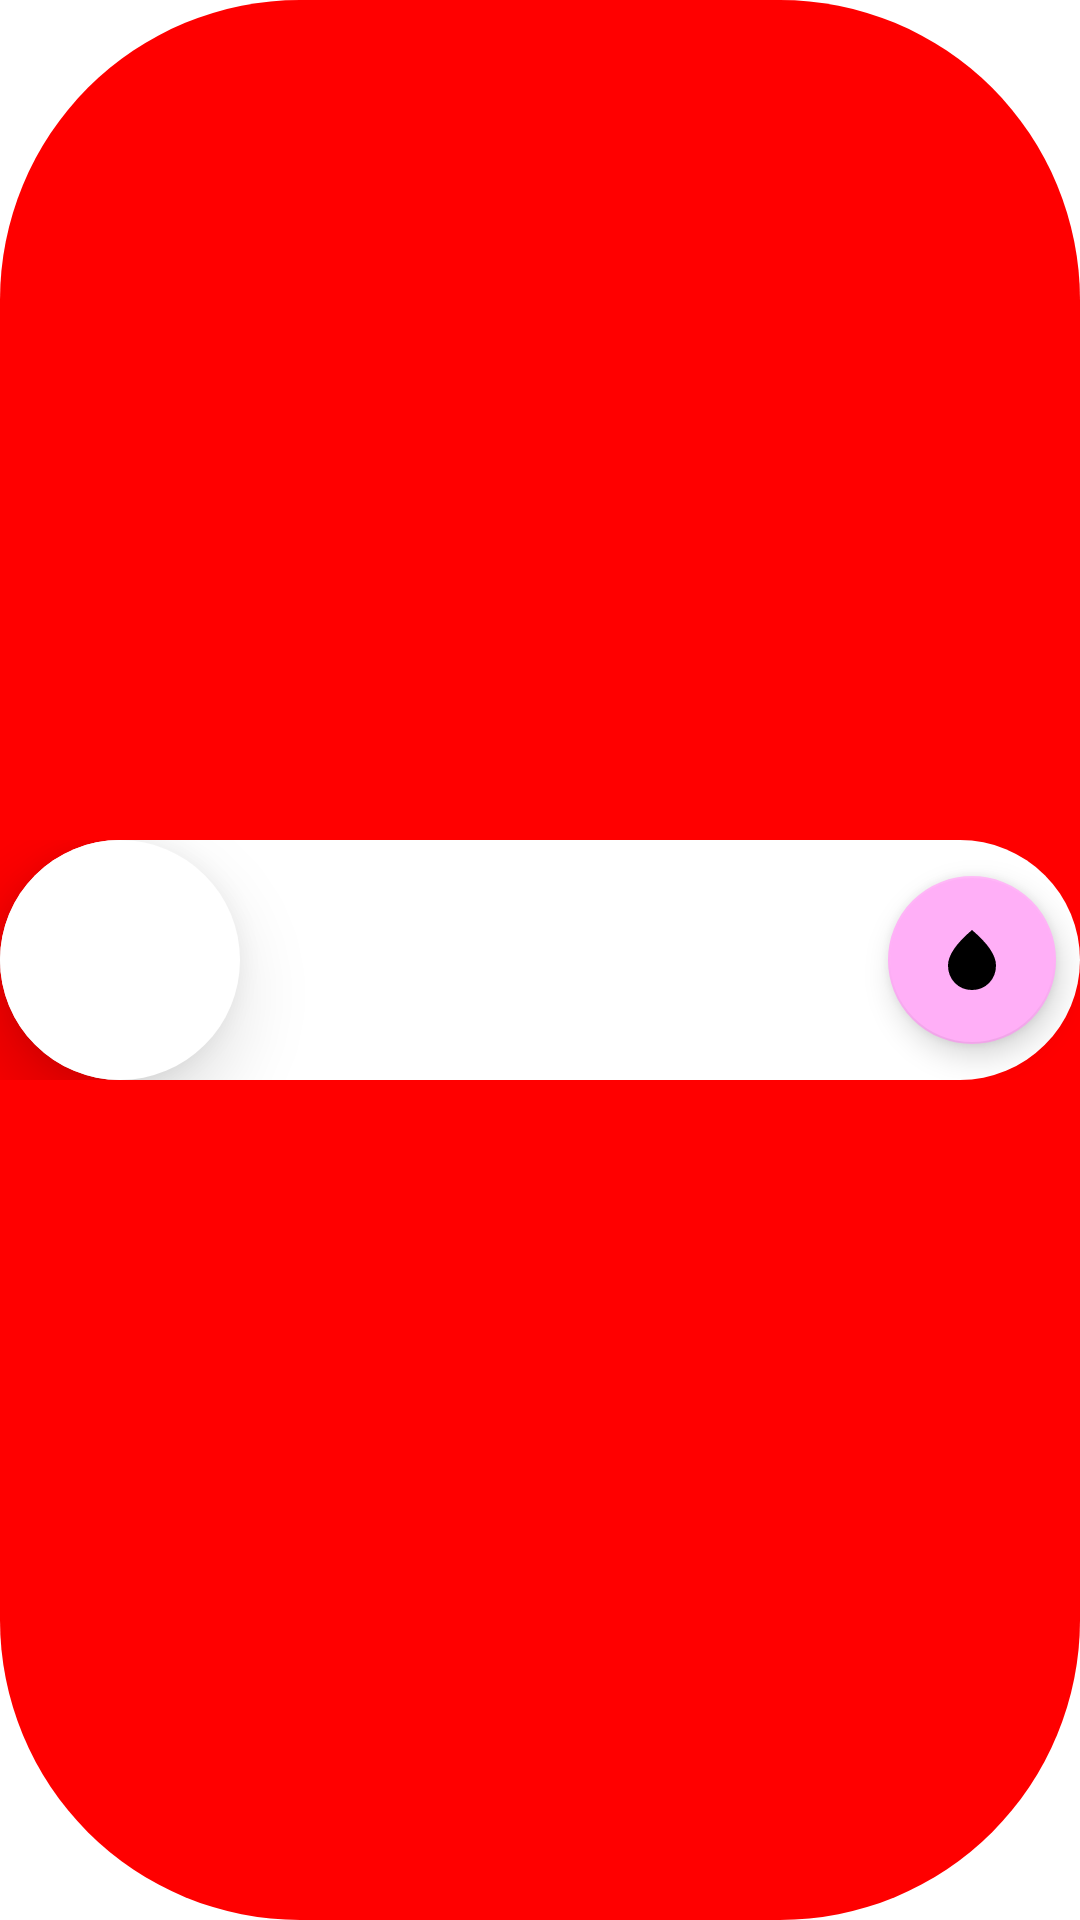

Screen size 1080*1920. Icon name, then its center in pixels as (x=x, y=y):
drop water to done: (x=972, y=960)
